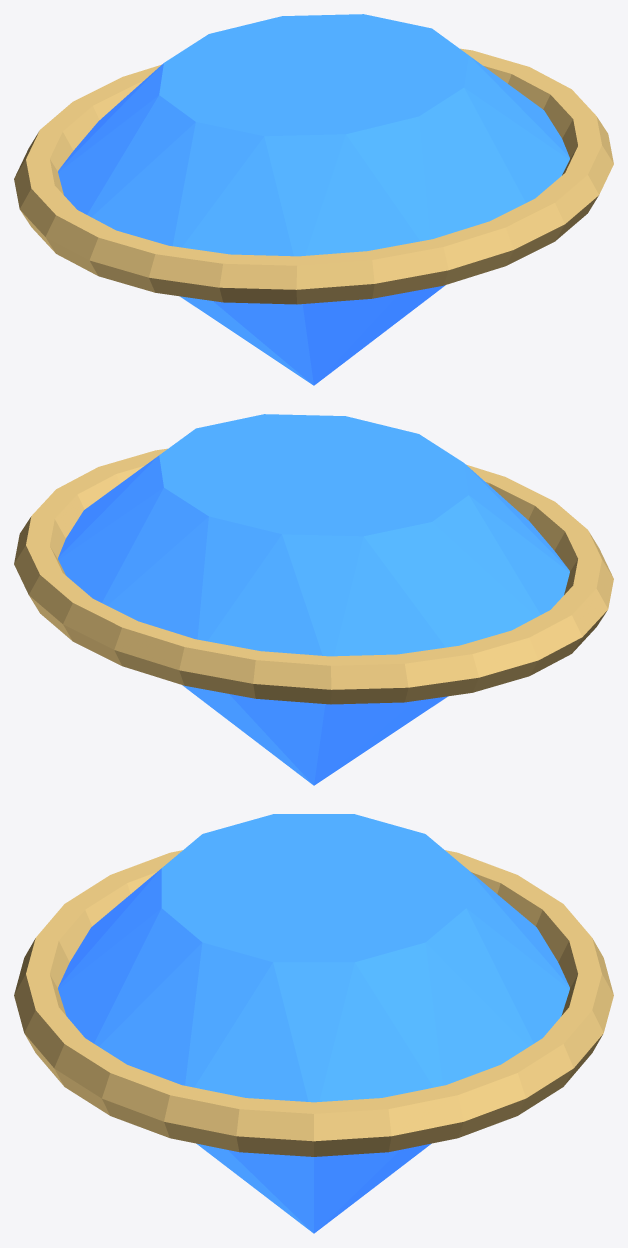
Rendered from gem_sapphire_royal.glb.
3 renders of one model, top to bottom at view 1: azimuth 30°, elevation 25°; view 2: azimuth 150°, elevation 25°; view 3: azimuth 270°, elevation 25°, orthographic. The views are drawn at different scales.
Parts seen in each view (by area): view 1: gem_sapphire_5, Torus; view 2: gem_sapphire_5, Torus; view 3: gem_sapphire_5, Torus.
Part boxes in pixels (x1,y1,x2,y2): gem_sapphire_5: [58, 14, 569, 385]; Torus: [14, 48, 613, 304]; gem_sapphire_5: [58, 414, 569, 785]; Torus: [14, 448, 613, 704]; gem_sapphire_5: [58, 814, 569, 1233]; Torus: [14, 850, 613, 1156].
Size of the model in its own units: 0.1509 by 0.0834 by 0.1312.
